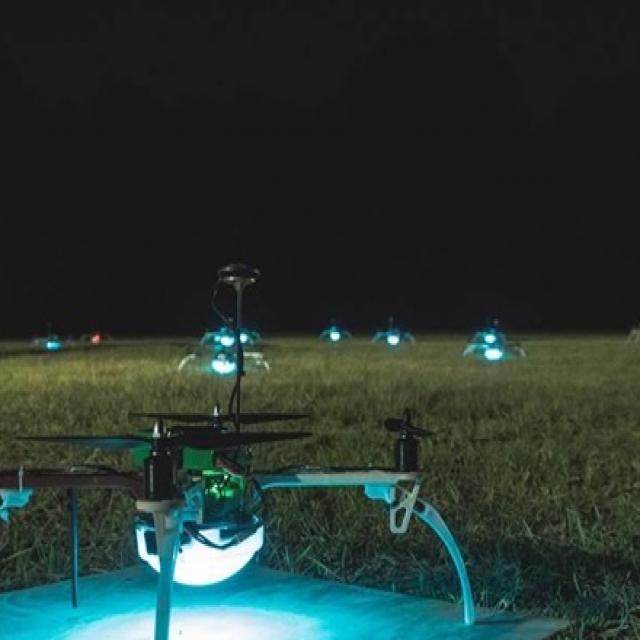drone: (0, 371, 461, 601)
